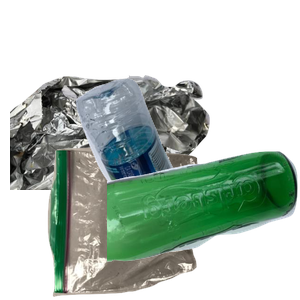glass: (107, 149, 300, 300)
metal: (10, 73, 212, 253)
plastic: (73, 76, 300, 256)
trash: (45, 144, 235, 300)
